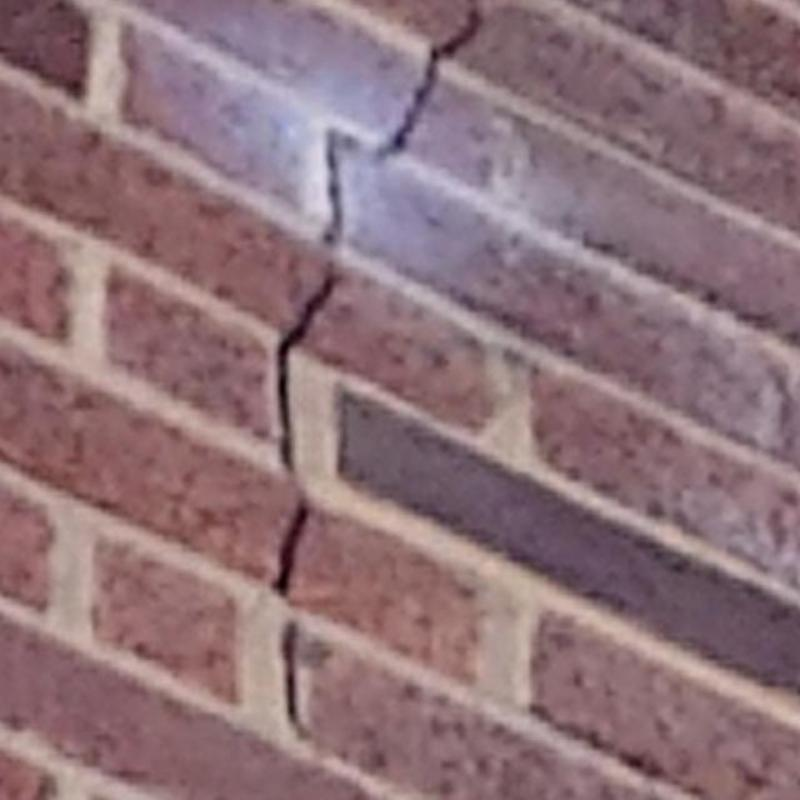pothole: (375, 2, 481, 160), (275, 258, 338, 471), (323, 128, 356, 249), (273, 495, 309, 597), (281, 622, 297, 724)
